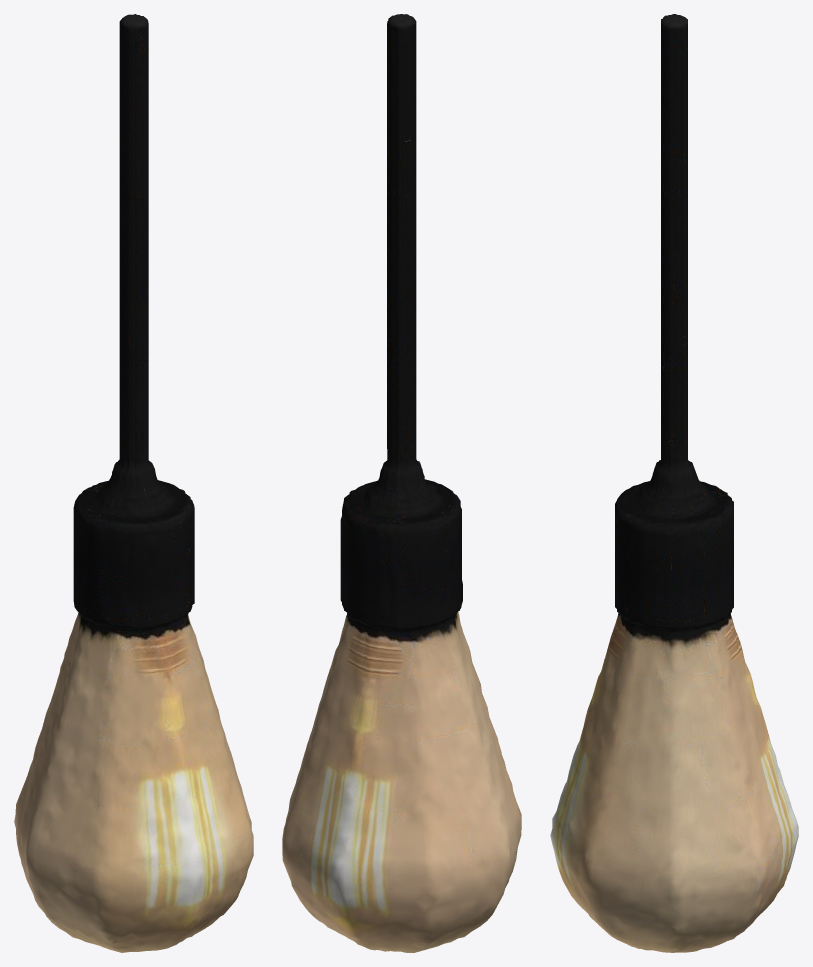
File: bulb.glb
3 renders of one model, left to right at view 1: azimuth 30°, elevation 25°; view 2: azimuth 150°, elevation 25°; view 3: azimuth 270°, elevation 25°, orthographic.
Bounding box in the file's own units: 0.4658 × 1.91 × 0.4658.
Materials: 1 (1 with a texture image).
